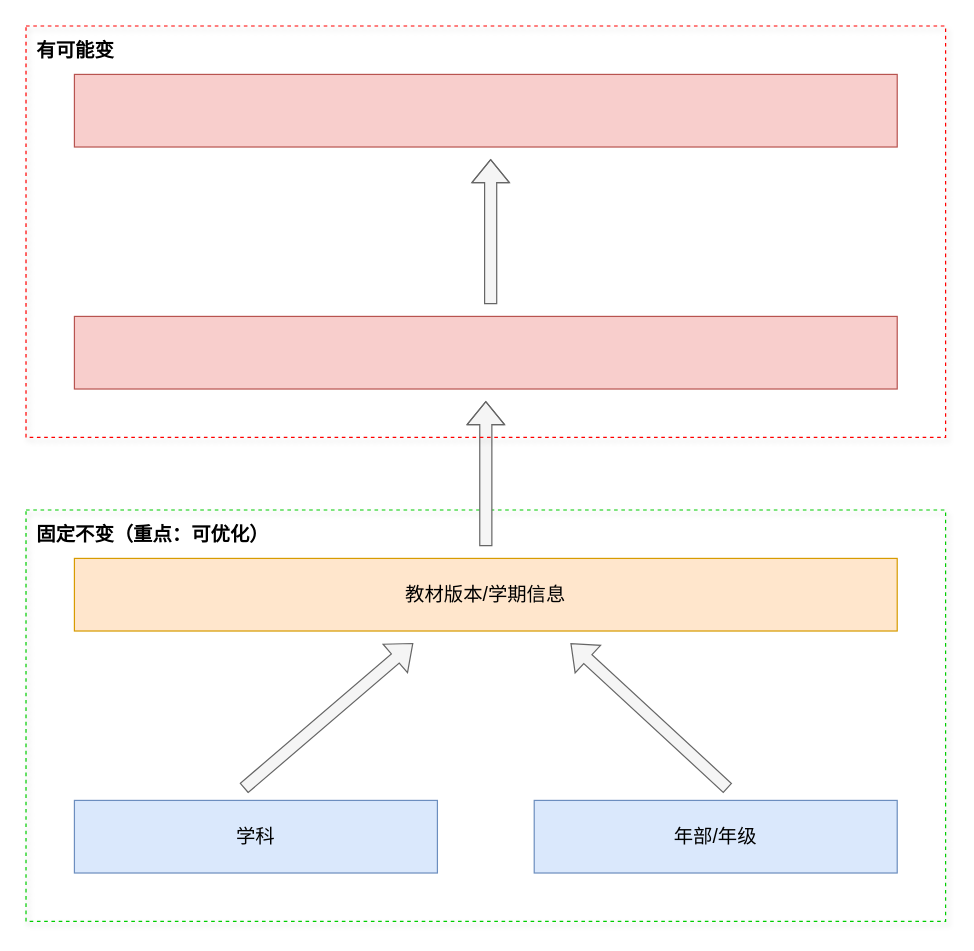
Image size: 974x951. Some labels were removed from this diagram. The shapes that lost their labels are listed below. From the top down, each one's centre as x and y in pixels, then its label:
At (485,110): "出题".
At (485,352): "章节数据（目录id和知识点）".
